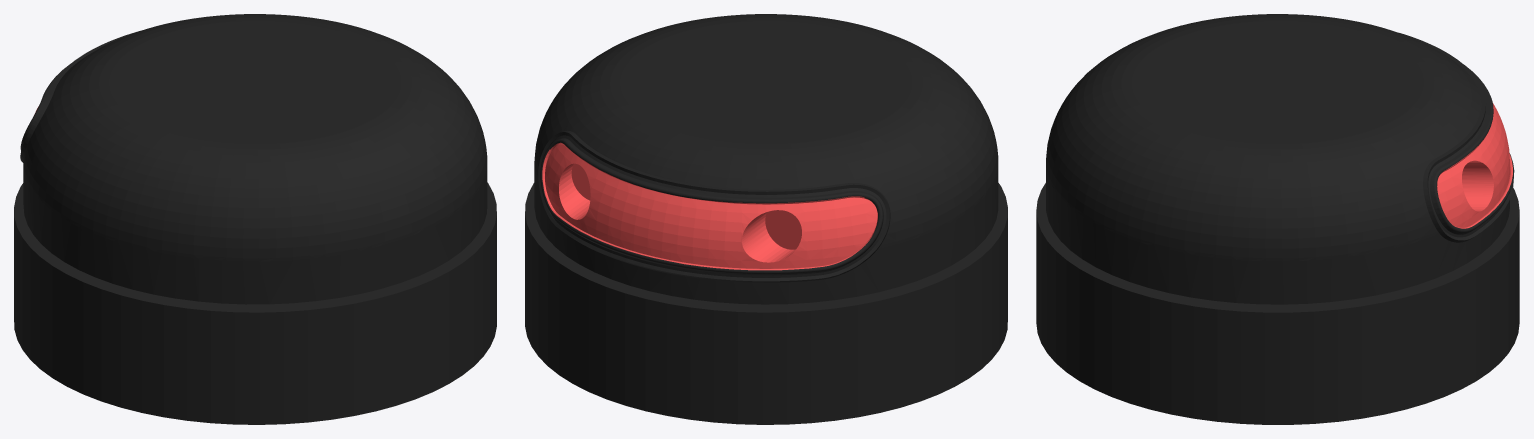
File: rplidar.dae
3 views of the same model, side by side, from view 1: azimuth 30°, elevation 25°; view 2: azimuth 150°, elevation 25°; view 3: azimuth 270°, elevation 25° (orthographic).
Parts seen in each view (by area): view 1: Rplidar; view 2: Rplidar; view 3: Rplidar.
Boxes of the visible parts, bbox=[...] form: Rplidar: bbox=[14, 14, 496, 424]; Rplidar: bbox=[525, 14, 1007, 424]; Rplidar: bbox=[1036, 14, 1519, 424].
Bounding box in the file's own units: 0.0759 × 0.076 × 0.0417.
